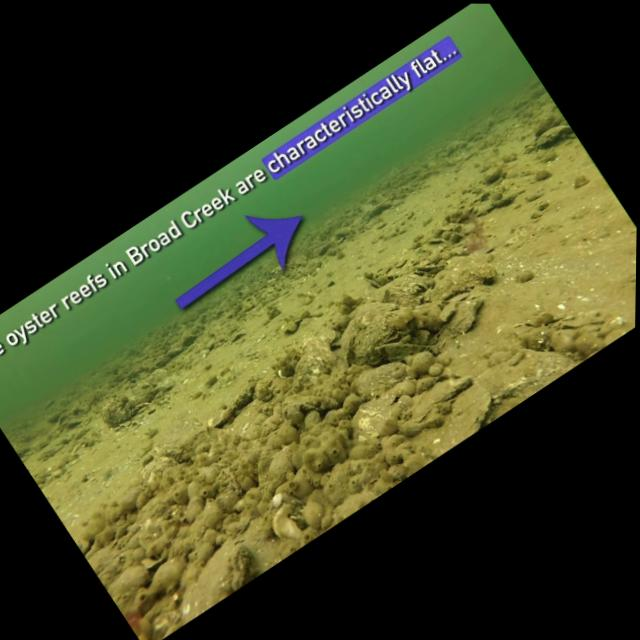Oyster-Closed: (434, 131, 474, 168)
Oyster-Indeterminate: (406, 375, 512, 464), (411, 230, 506, 314), (338, 377, 430, 462), (191, 529, 281, 608), (375, 314, 450, 381), (347, 347, 420, 414), (277, 344, 343, 406), (368, 261, 434, 323), (149, 410, 214, 471), (135, 546, 197, 599), (290, 320, 345, 379), (220, 393, 278, 448), (262, 494, 316, 548), (437, 291, 492, 342), (130, 447, 181, 494), (105, 557, 154, 603), (529, 117, 578, 160), (97, 390, 143, 434), (218, 377, 265, 418), (515, 321, 555, 363), (543, 319, 583, 360), (197, 401, 238, 439), (591, 317, 634, 353), (568, 324, 606, 363), (525, 104, 564, 141), (475, 156, 515, 192), (92, 550, 131, 586), (357, 191, 398, 225), (446, 233, 484, 267), (127, 607, 166, 640), (510, 259, 545, 294), (138, 541, 175, 574), (468, 194, 503, 226), (60, 404, 96, 435), (573, 310, 607, 342), (124, 372, 155, 402), (41, 401, 73, 430), (269, 253, 301, 281), (296, 254, 327, 281), (593, 311, 624, 338), (329, 217, 358, 244), (478, 181, 507, 208), (454, 215, 483, 242), (424, 227, 452, 253), (177, 328, 204, 353), (442, 203, 470, 227), (439, 214, 465, 238), (531, 163, 557, 187), (189, 347, 216, 370), (536, 306, 560, 331), (74, 533, 97, 557), (194, 333, 218, 356), (211, 327, 236, 349), (571, 170, 595, 192), (312, 238, 337, 259), (439, 225, 462, 246), (132, 388, 155, 407), (165, 343, 185, 362), (42, 395, 62, 414), (151, 352, 172, 370), (123, 343, 142, 361), (197, 344, 212, 361)
Oyster-Open: (326, 293, 412, 373), (146, 376, 177, 402), (135, 399, 152, 414)
